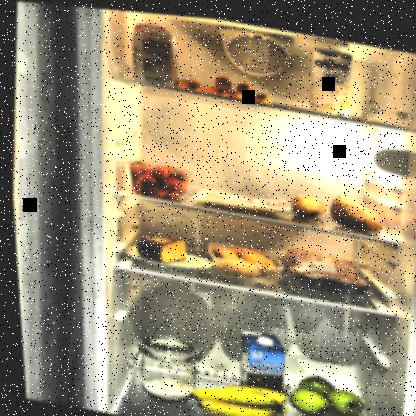apple: (275, 362, 366, 415)
banana: (180, 371, 289, 415)
carrot: (172, 63, 276, 103)
cheese: (132, 227, 190, 267)
chicken: (271, 236, 372, 292)
milk: (229, 321, 288, 407), (306, 38, 358, 115)
potato: (202, 236, 280, 284)
strawberries: (122, 153, 191, 201)
sweet_potato: (323, 185, 384, 230), (286, 186, 325, 215)
